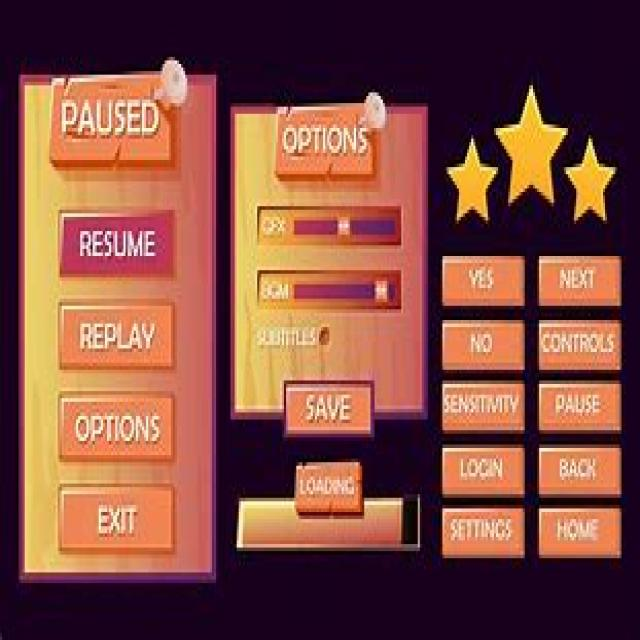button: (55, 206, 176, 281), (58, 299, 180, 373), (56, 479, 176, 554), (56, 390, 177, 463), (282, 378, 377, 438), (440, 502, 527, 562), (439, 252, 527, 310), (538, 441, 624, 500), (537, 504, 623, 562), (440, 441, 526, 498), (538, 315, 622, 372), (537, 253, 622, 309), (440, 317, 526, 372), (441, 378, 527, 433), (295, 457, 367, 522), (537, 378, 622, 432)
icon: (446, 78, 620, 235)
label: (48, 59, 186, 167), (278, 116, 370, 162), (256, 324, 316, 346), (256, 274, 290, 304), (261, 210, 289, 240)
radio: (318, 320, 332, 350)
slider: (293, 276, 399, 305), (292, 215, 399, 241)
